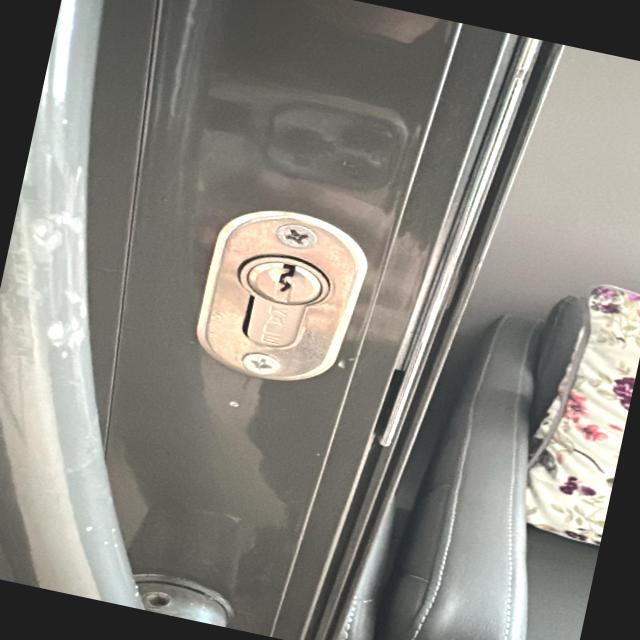Phillips: (270, 220, 326, 256), (237, 351, 285, 382)
